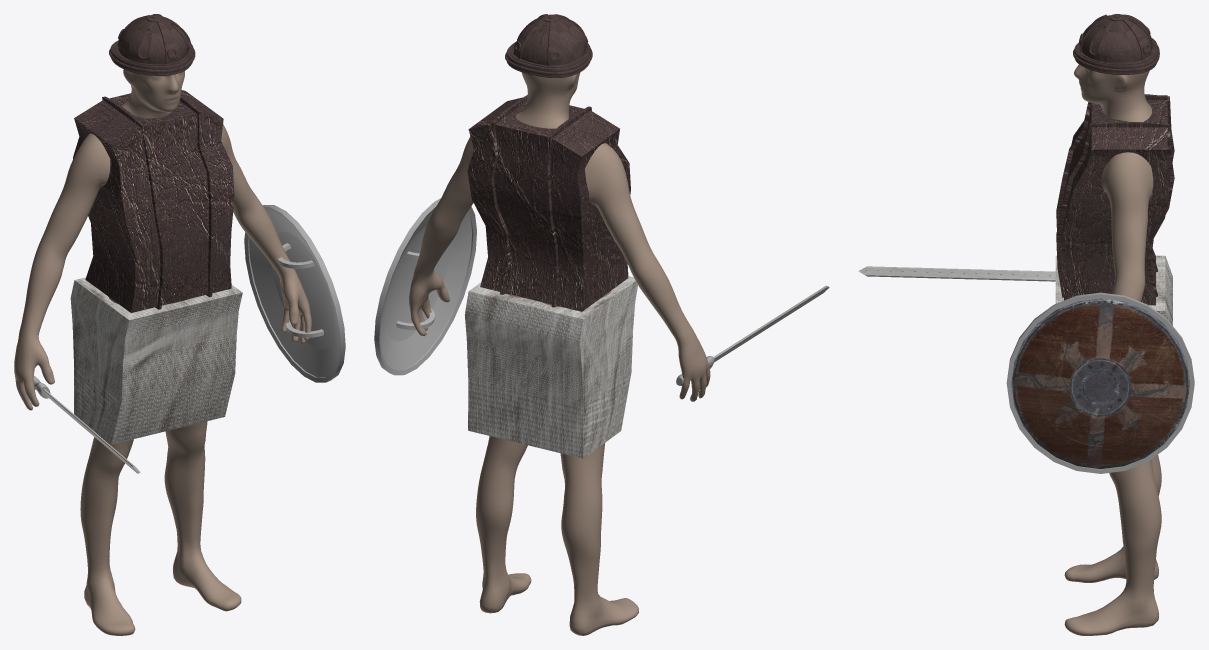
Rendered from Soldier Level_2.fbx.
The picture shows the model from 3 angles, left to right: view 1: azimuth 30°, elevation 25°; view 2: azimuth 150°, elevation 25°; view 3: azimuth 270°, elevation 25°; orthographic projection.
Parts seen in each view (by area): view 1: humanBody, pCube3, pCube2, polySurface1, polySurface148, polySurface3, pCube1; view 2: humanBody, pCube3, pCube2, polySurface1, polySurface148, polySurface3, pCube1; view 3: polySurface2, humanBody, pCube3, polySurface148, polySurface3, pCube1, pCube2.
Part boxes in pixels (box(x1,y1,x2,y2)): humanBody: box(14, 69, 311, 635); pCube3: box(73, 90, 234, 312); pCube2: box(70, 277, 242, 444); polySurface1: box(249, 210, 339, 377); polySurface148: box(109, 14, 195, 75); polySurface3: box(244, 205, 345, 382); pCube1: box(43, 389, 140, 473); humanBody: box(409, 72, 710, 635); pCube3: box(467, 95, 630, 311); pCube2: box(465, 276, 637, 458); polySurface1: box(380, 210, 472, 369); polySurface148: box(505, 14, 592, 77); polySurface3: box(374, 198, 476, 375); pCube1: box(713, 285, 829, 362); polySurface2: box(1011, 298, 1189, 468); humanBody: box(1064, 64, 1161, 635); pCube3: box(1056, 94, 1174, 305); polySurface148: box(1073, 14, 1159, 74); polySurface3: box(1006, 292, 1194, 473); pCube1: box(858, 266, 1055, 281); pCube2: box(1055, 255, 1172, 325).
Bounding box in the file's own units: 19.37 × 36.54 × 18.9.
